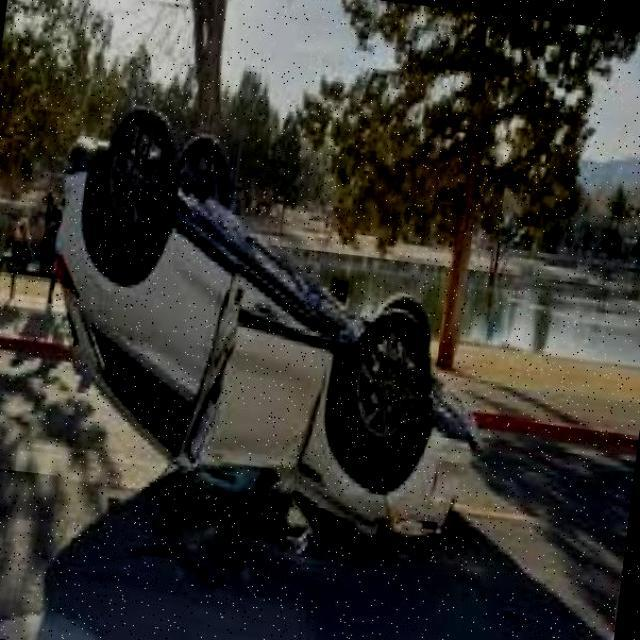accident: (15, 114, 513, 557)
